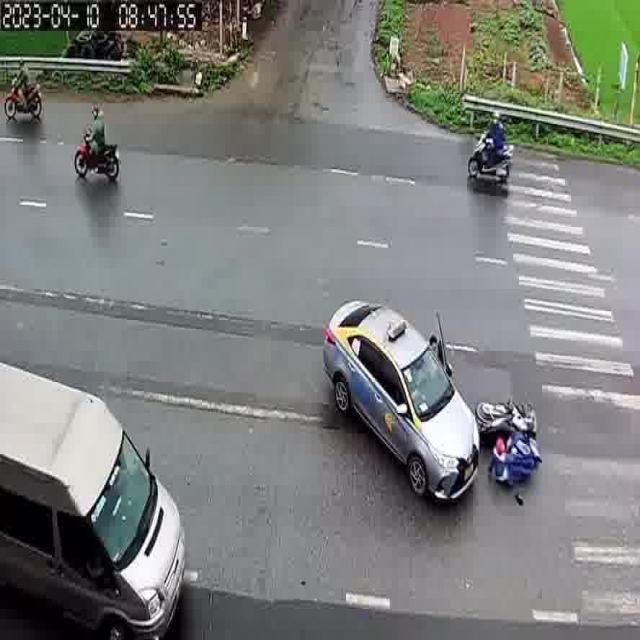multiple_accident: (318, 287, 547, 527)
normal: (446, 94, 529, 200), (57, 99, 139, 196), (0, 47, 57, 127)
